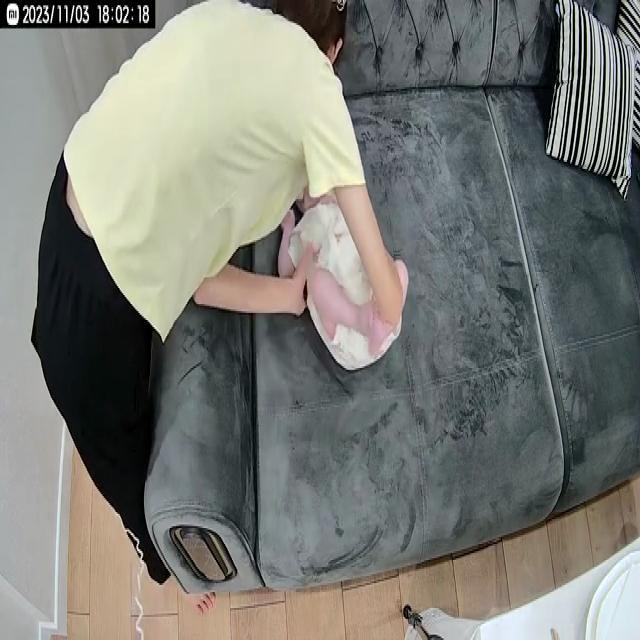baby: (277, 172, 409, 372)
